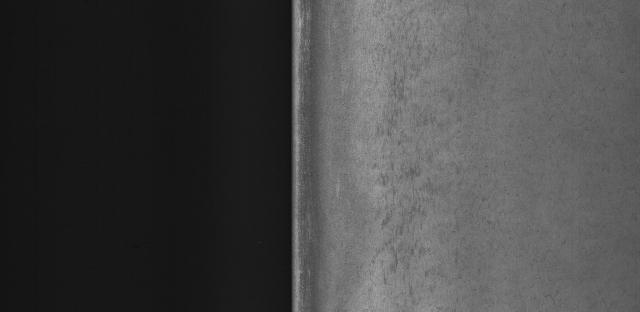silk_spot: (368, 18, 483, 300)
